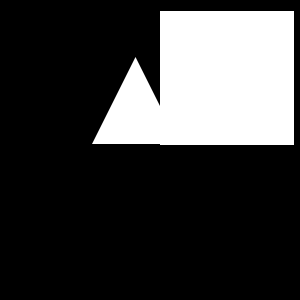circle: (160, 11, 294, 145), (222, 81, 233, 92)
triangle: (92, 57, 179, 144)
